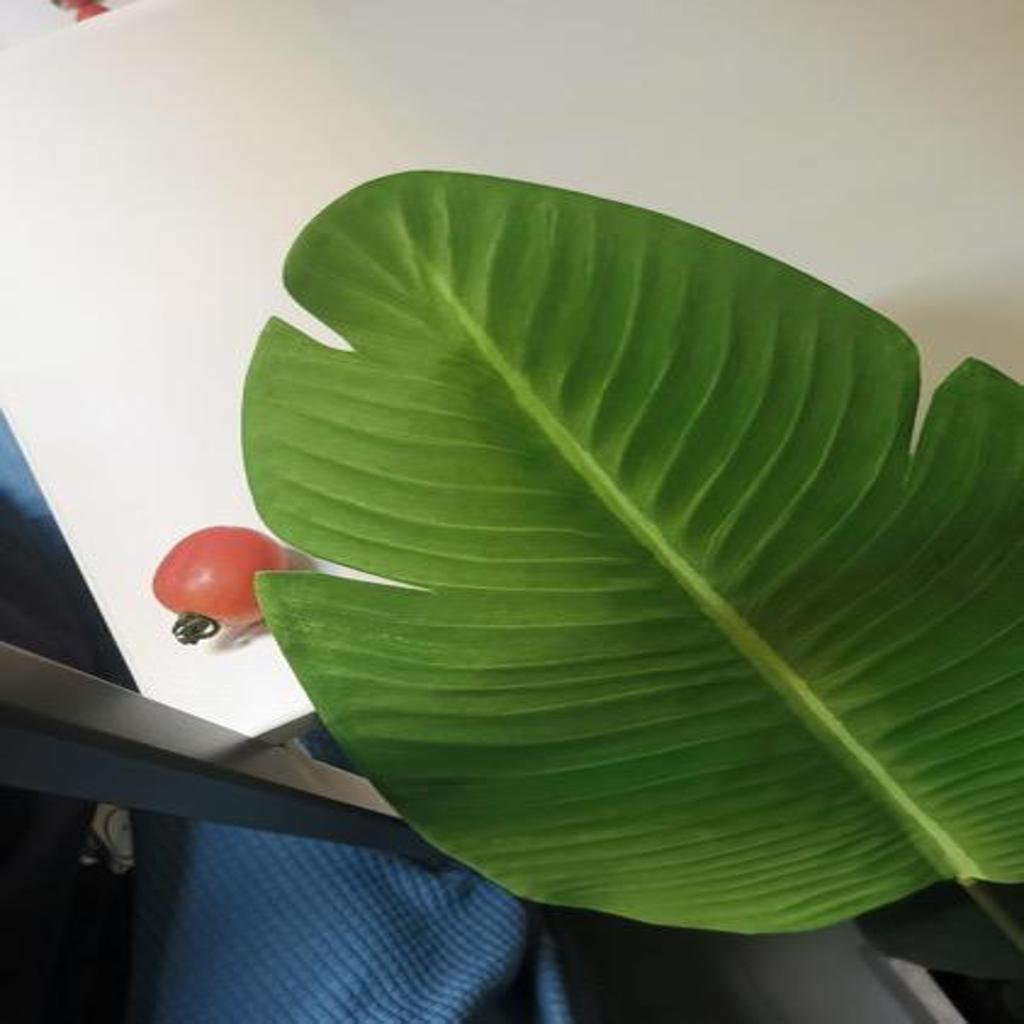tomato: (143, 519, 303, 646)
